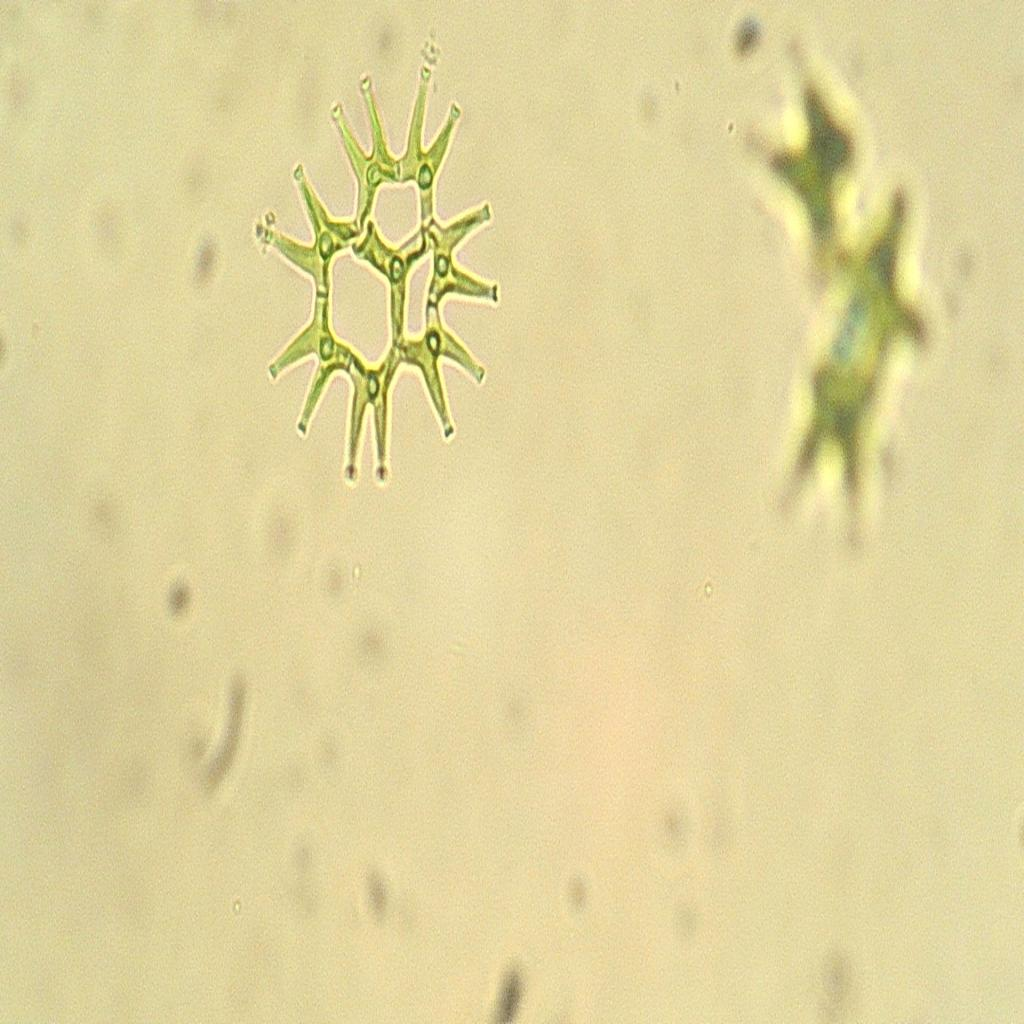Pediastrum_1T: (250, 54, 502, 514)
